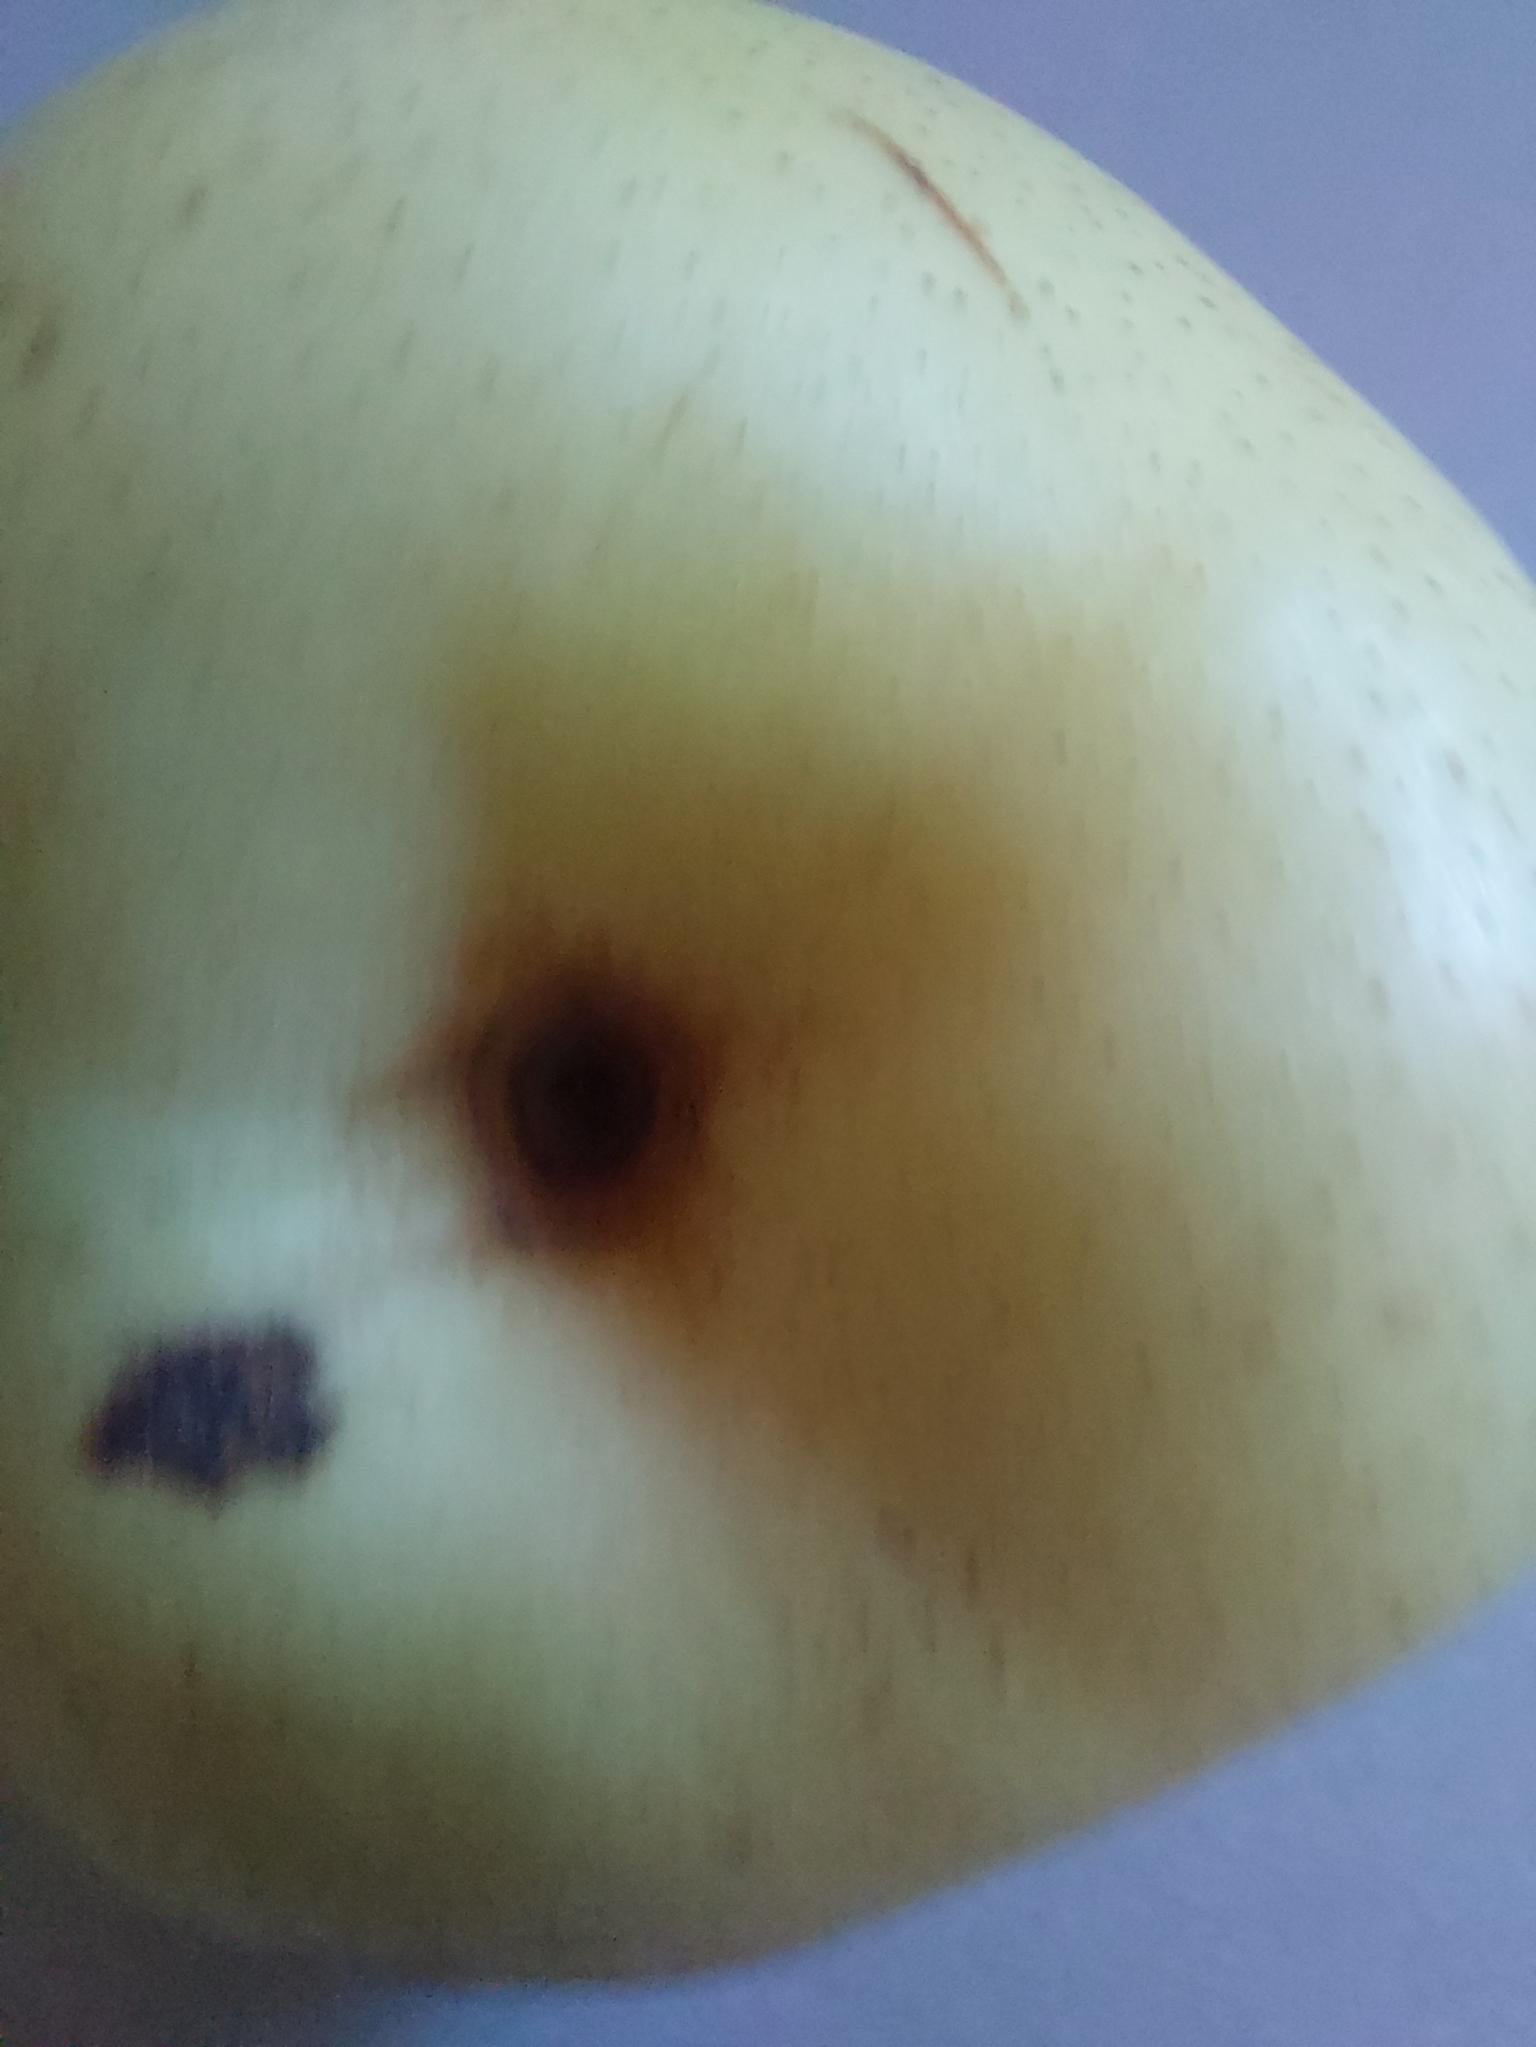Good Pear: (0, 0, 1536, 2020)
